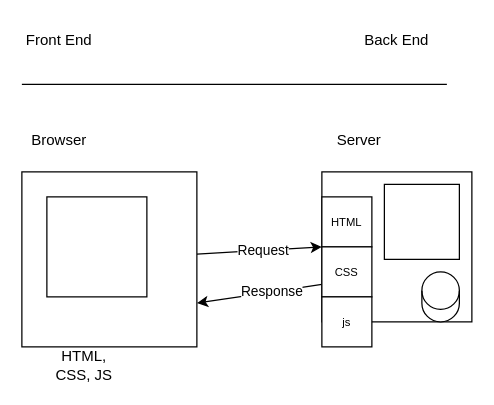
Image size: 494x405. Some labels were removed from this diagram. Here are the shapes that lost their labels. From the top down, the centre of each, then its label:
At (421,221): "server code".
At (96,246): "text, video, images..".
